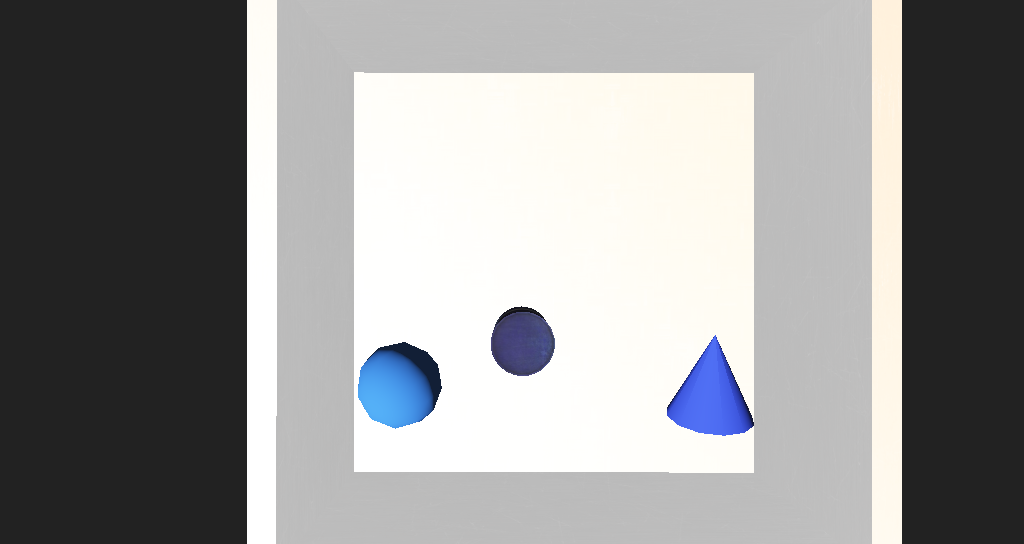cone: (455, 289, 502, 322)
cylinder: (589, 296, 664, 353)
sphere: (360, 308, 421, 351)
